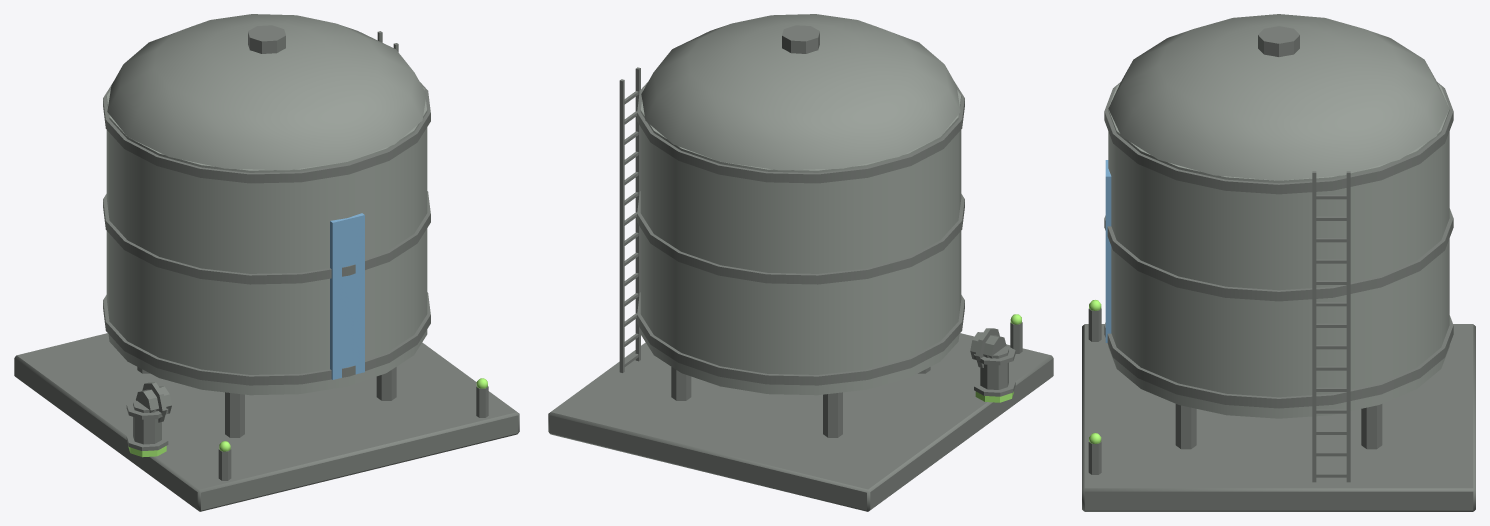
File: CiudadDeposito.fbx
3 views of the same model, side by side, from view 1: azimuth 30°, elevation 25°; view 2: azimuth 150°, elevation 25°; view 3: azimuth 270°, elevation 25° (orthographic). The views are drawn at different scales.
Visible parts, largest first — view 1: CiudadDeposito_Base_Cuerpo, CiudadDeposito_Base_Metal, CiudadDeposito_Base_Techo, CiudadDeposito_Base_Cristal; view 2: CiudadDeposito_Base_Cuerpo, CiudadDeposito_Base_Metal, CiudadDeposito_Base_Techo; view 3: CiudadDeposito_Base_Cuerpo, CiudadDeposito_Base_Metal, CiudadDeposito_Base_Techo, CiudadDeposito_Base_Cristal.
Part boxes in pixels (x1,y1,x2,y2): CiudadDeposito_Base_Cuerpo: (106, 87, 427, 395); CiudadDeposito_Base_Metal: (14, 25, 519, 511); CiudadDeposito_Base_Techo: (107, 14, 426, 170); CiudadDeposito_Base_Cristal: (330, 213, 364, 379); CiudadDeposito_Base_Cuerpo: (640, 87, 961, 395); CiudadDeposito_Base_Metal: (548, 25, 1053, 511); CiudadDeposito_Base_Techo: (641, 14, 960, 170); CiudadDeposito_Base_Cuerpo: (1108, 84, 1449, 418); CiudadDeposito_Base_Metal: (1082, 26, 1475, 511); CiudadDeposito_Base_Techo: (1108, 14, 1449, 180); CiudadDeposito_Base_Cristal: (1105, 160, 1111, 342).
Size of the model in its own units: 3134 by 3320 by 3000.
